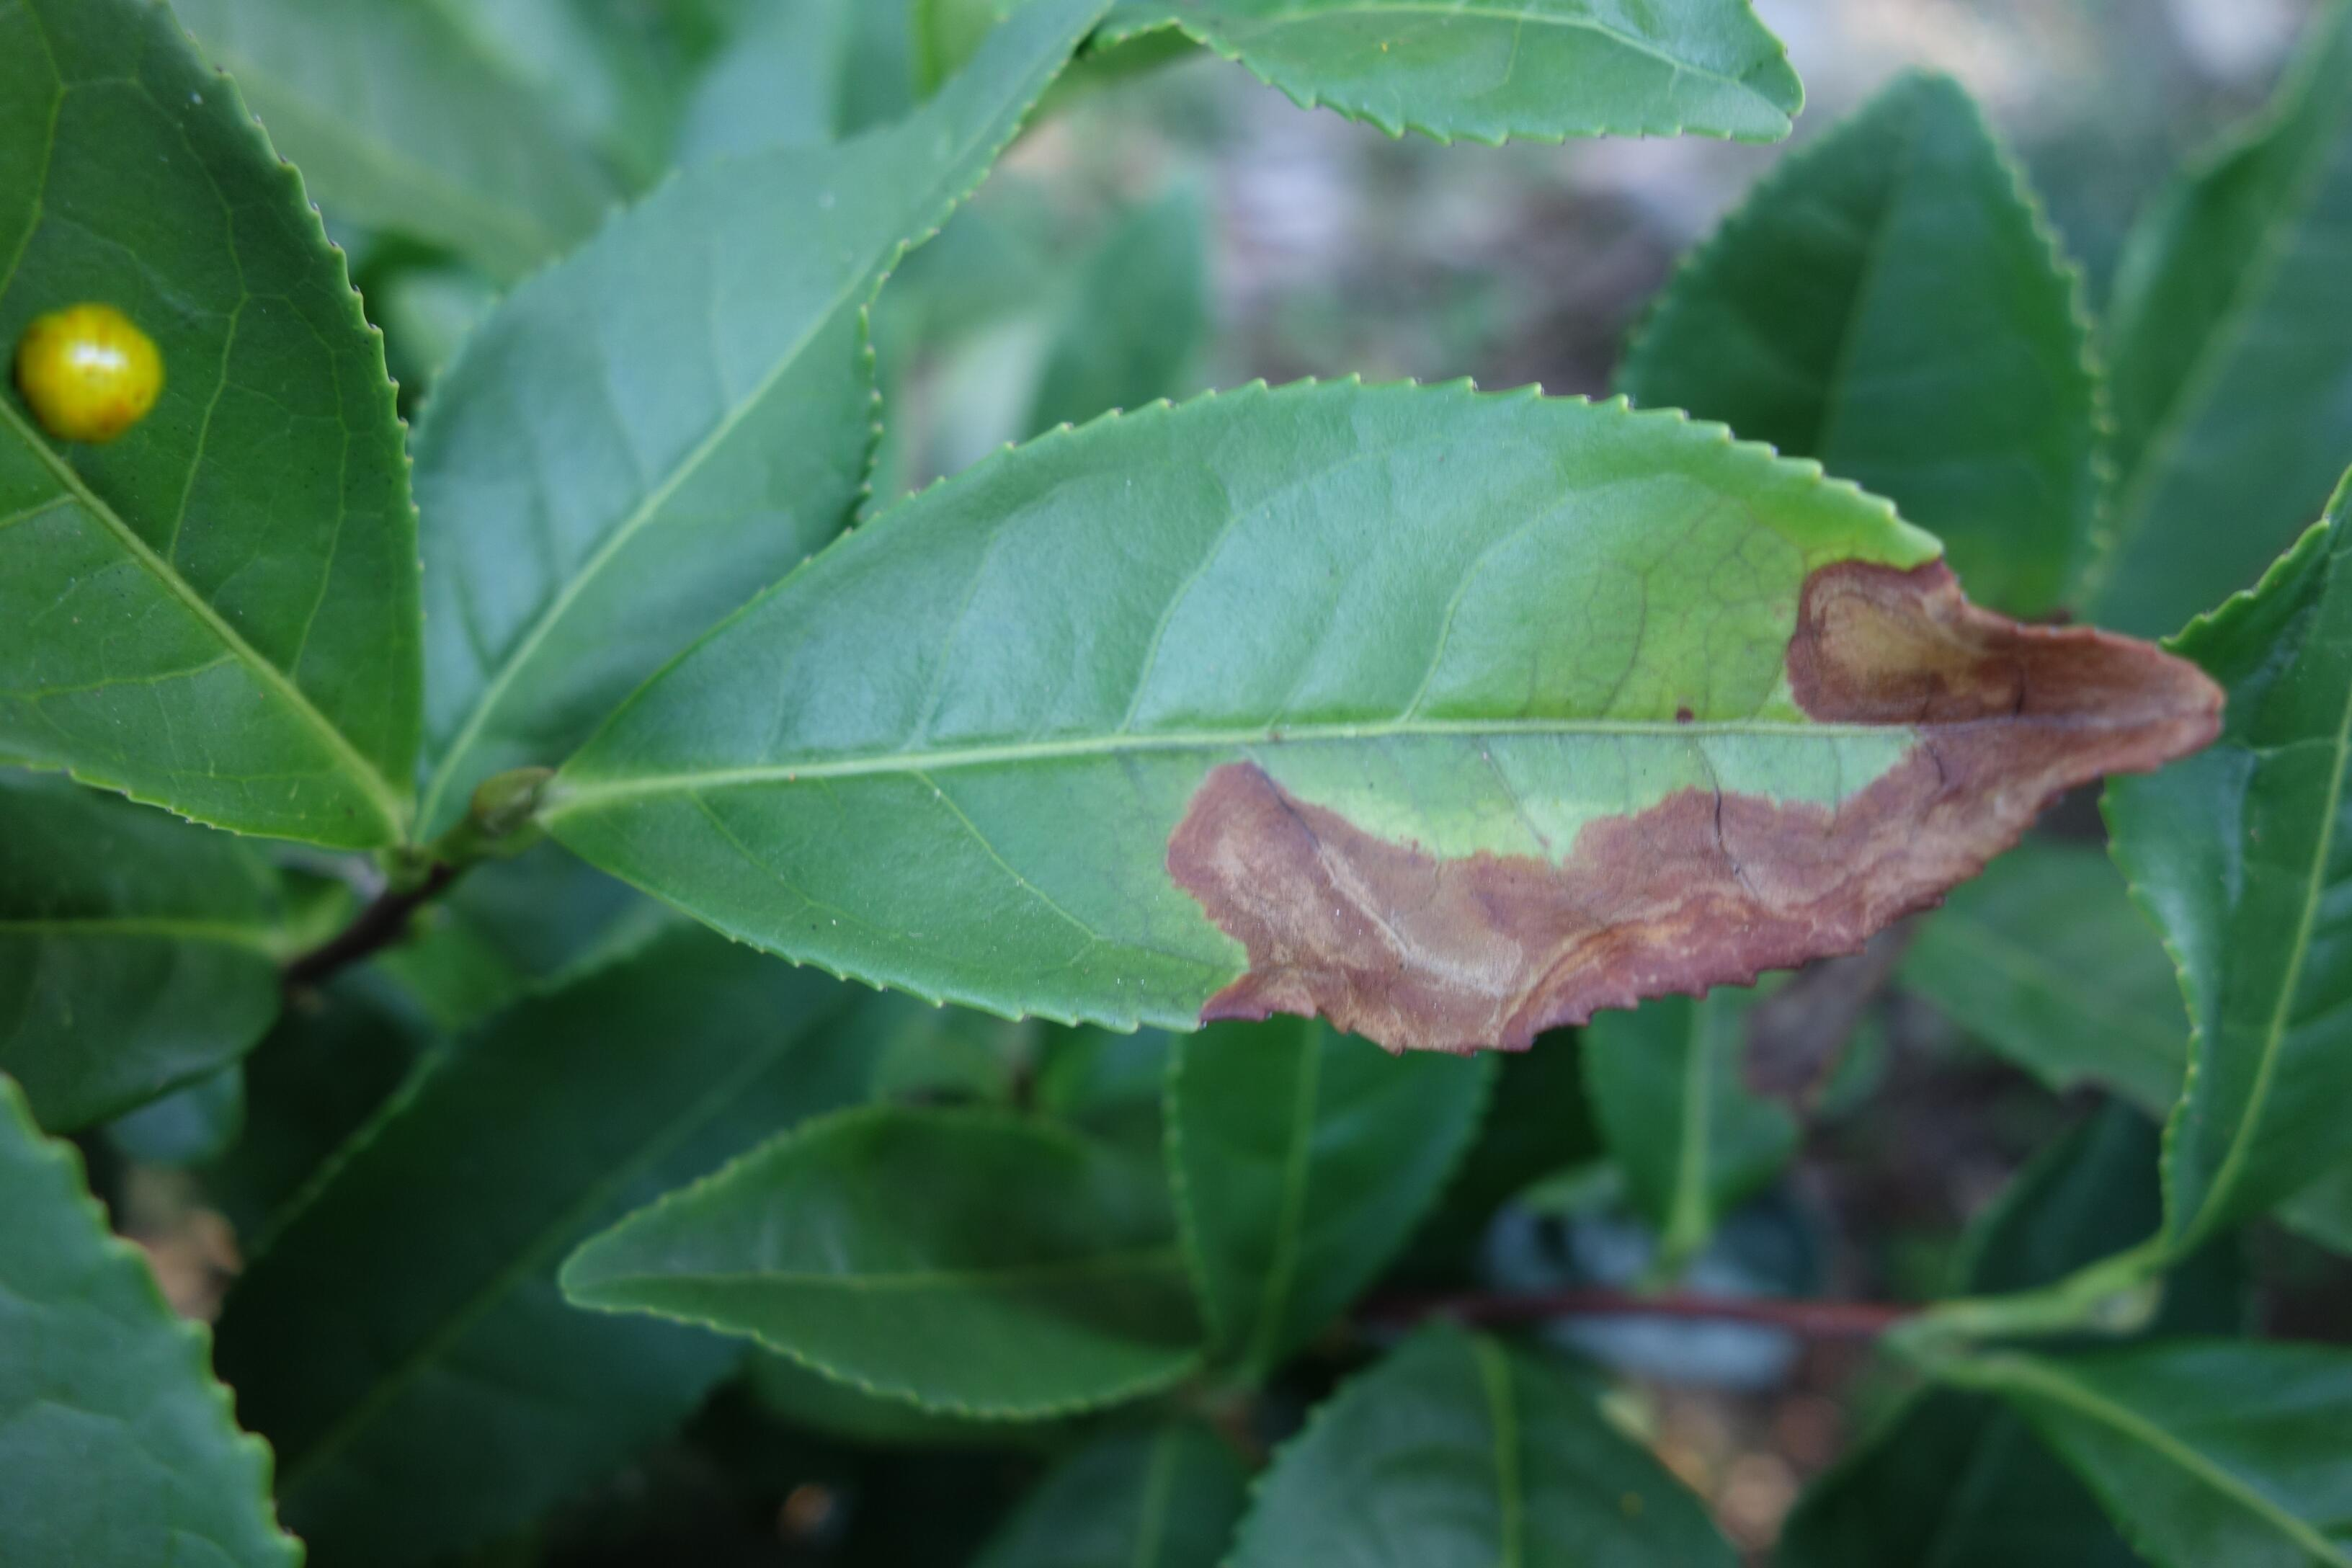chabing_low: (2, 3, 432, 856)
healthy: (555, 1097, 1197, 1421)
tanju_high: (527, 366, 2228, 1052)
